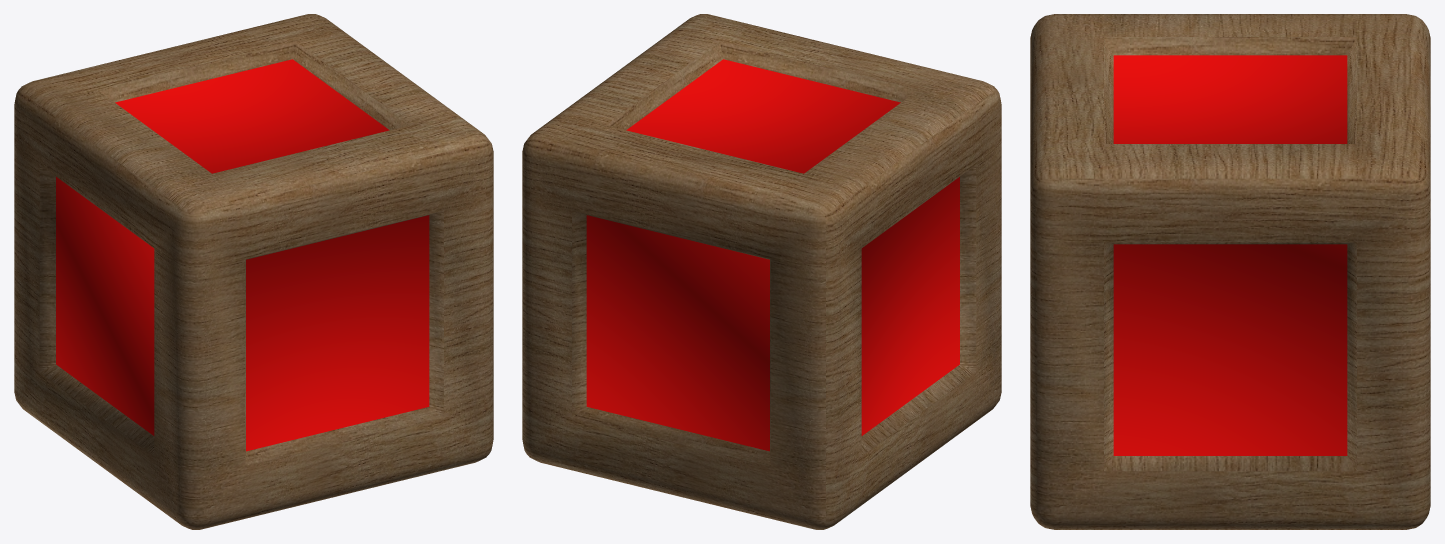
The model's file is HolzWuerfel.glb.
The picture shows the model from 3 angles, left to right: view 1: azimuth 30°, elevation 25°; view 2: azimuth 150°, elevation 25°; view 3: azimuth 270°, elevation 25°; orthographic projection. The views are drawn at different scales.
Visible parts, largest first — view 1: Cube; view 2: Cube; view 3: Cube.
Boxes of the visible parts, x1,y1,x2,y2 form: Cube: (14, 14, 493, 529); Cube: (522, 14, 1001, 529); Cube: (1030, 14, 1430, 529).
Size of the model in its own units: 2 by 2 by 2.
Materials: 2 (1 with a texture image).
